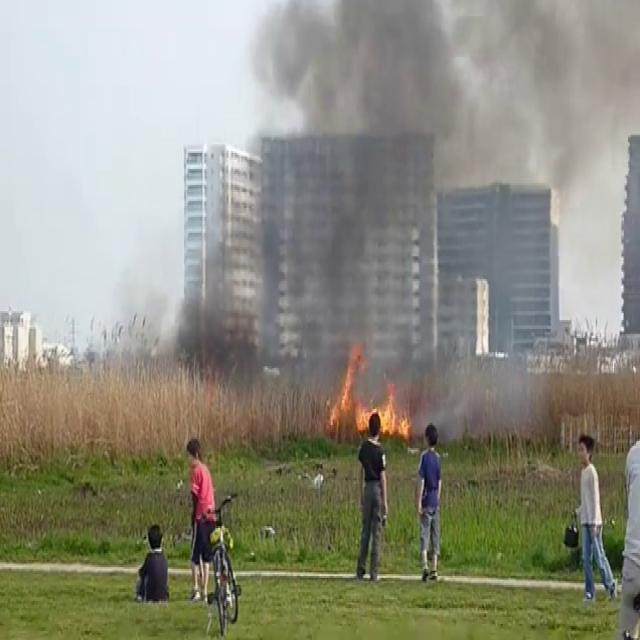Fire: (323, 338, 413, 442)
Smoke: (52, 0, 639, 393), (240, 0, 640, 393)
